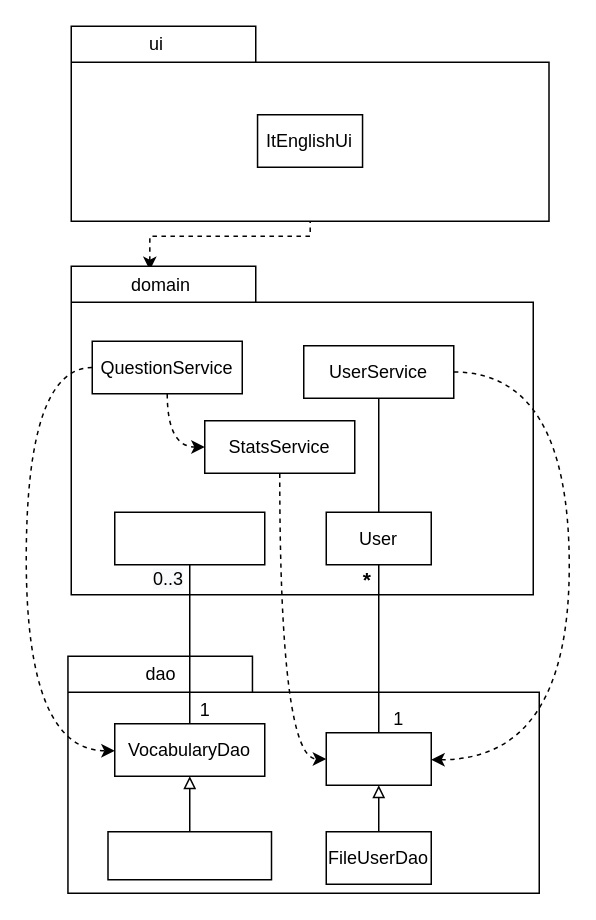
Image size: 596x920. Some labels were removed from this diagram. Here are the shapes that lost their labels. From the top down, the box of each, then its label:
(113, 511, 265, 565): Vocabulary
(325, 731, 431, 785): UserDao
(106, 830, 272, 880): FileVocabularyDao
